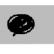correct: (3, 11, 37, 39)
